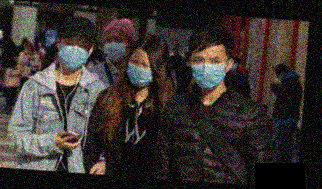with_mask: (188, 52, 229, 91), (57, 34, 88, 70), (125, 55, 155, 88), (102, 33, 129, 61)
